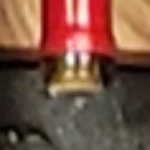bottle: (26, 13, 133, 120)
